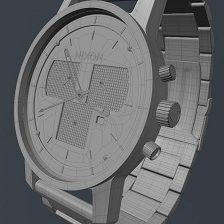Watch: (12, 1, 177, 215)
